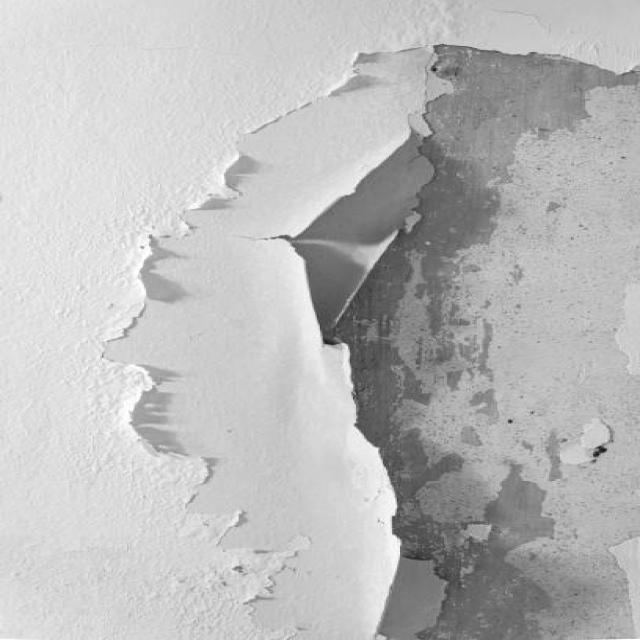peeling paint: (74, 38, 640, 640)
